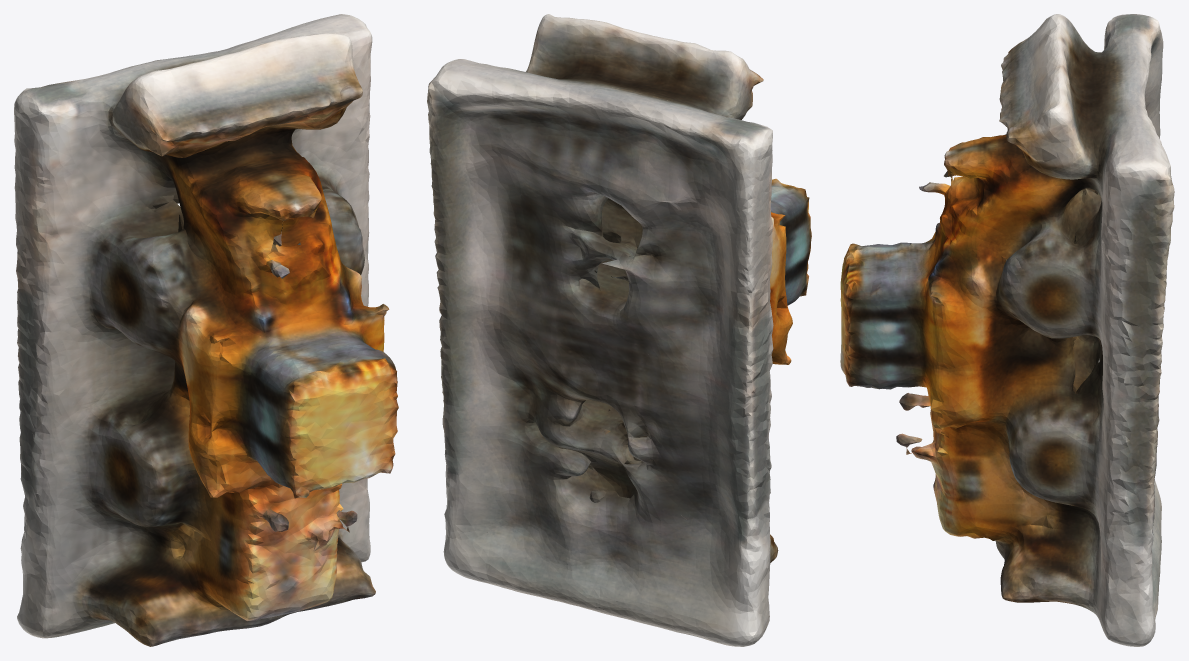
The picture shows the model from 3 angles, left to right: view 1: azimuth 30°, elevation 25°; view 2: azimuth 150°, elevation 25°; view 3: azimuth 270°, elevation 25°; orthographic projection. The views are drawn at different scales.
Bounding box in the file's own units: 1.02 × 1.63 × 0.934.
1 material, 1 textured.
